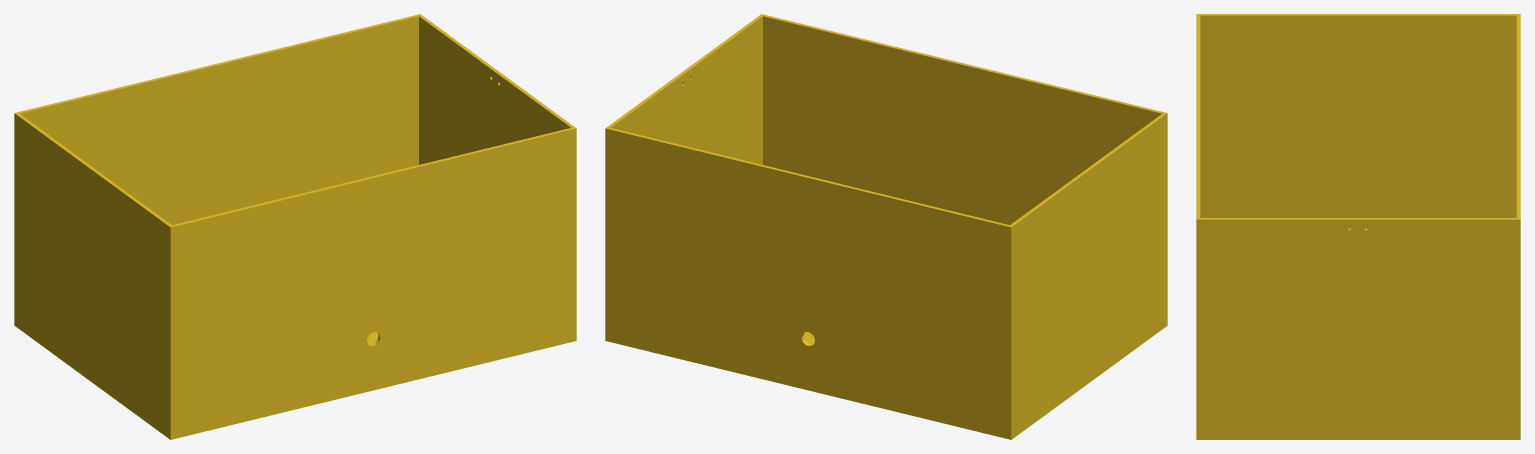
The model's file is Body.dae.
The picture shows the model from 3 angles, left to right: view 1: azimuth 30°, elevation 25°; view 2: azimuth 150°, elevation 25°; view 3: azimuth 270°, elevation 25°; orthographic projection. The views are drawn at different scales.
Parts seen in each view (by area): view 1: Body; view 2: Body; view 3: Body.
Boxes of the visible parts, x1,y1,x2,y2 form: Body: (14, 14, 576, 439); Body: (605, 14, 1167, 439); Body: (1196, 14, 1520, 439).
Bounding box in the file's own units: 1.2 × 0.8 × 0.6.
